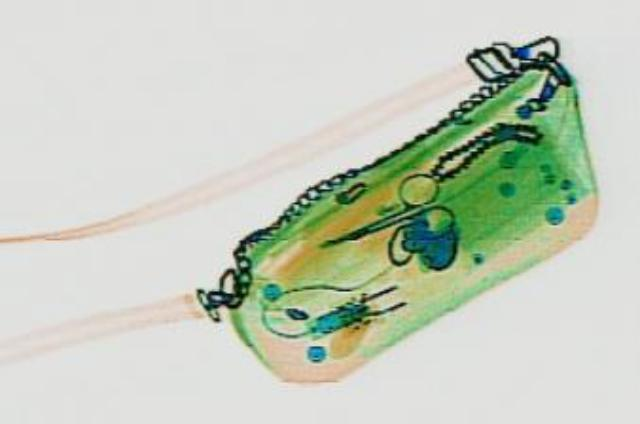Scissors: (288, 166, 480, 270)
